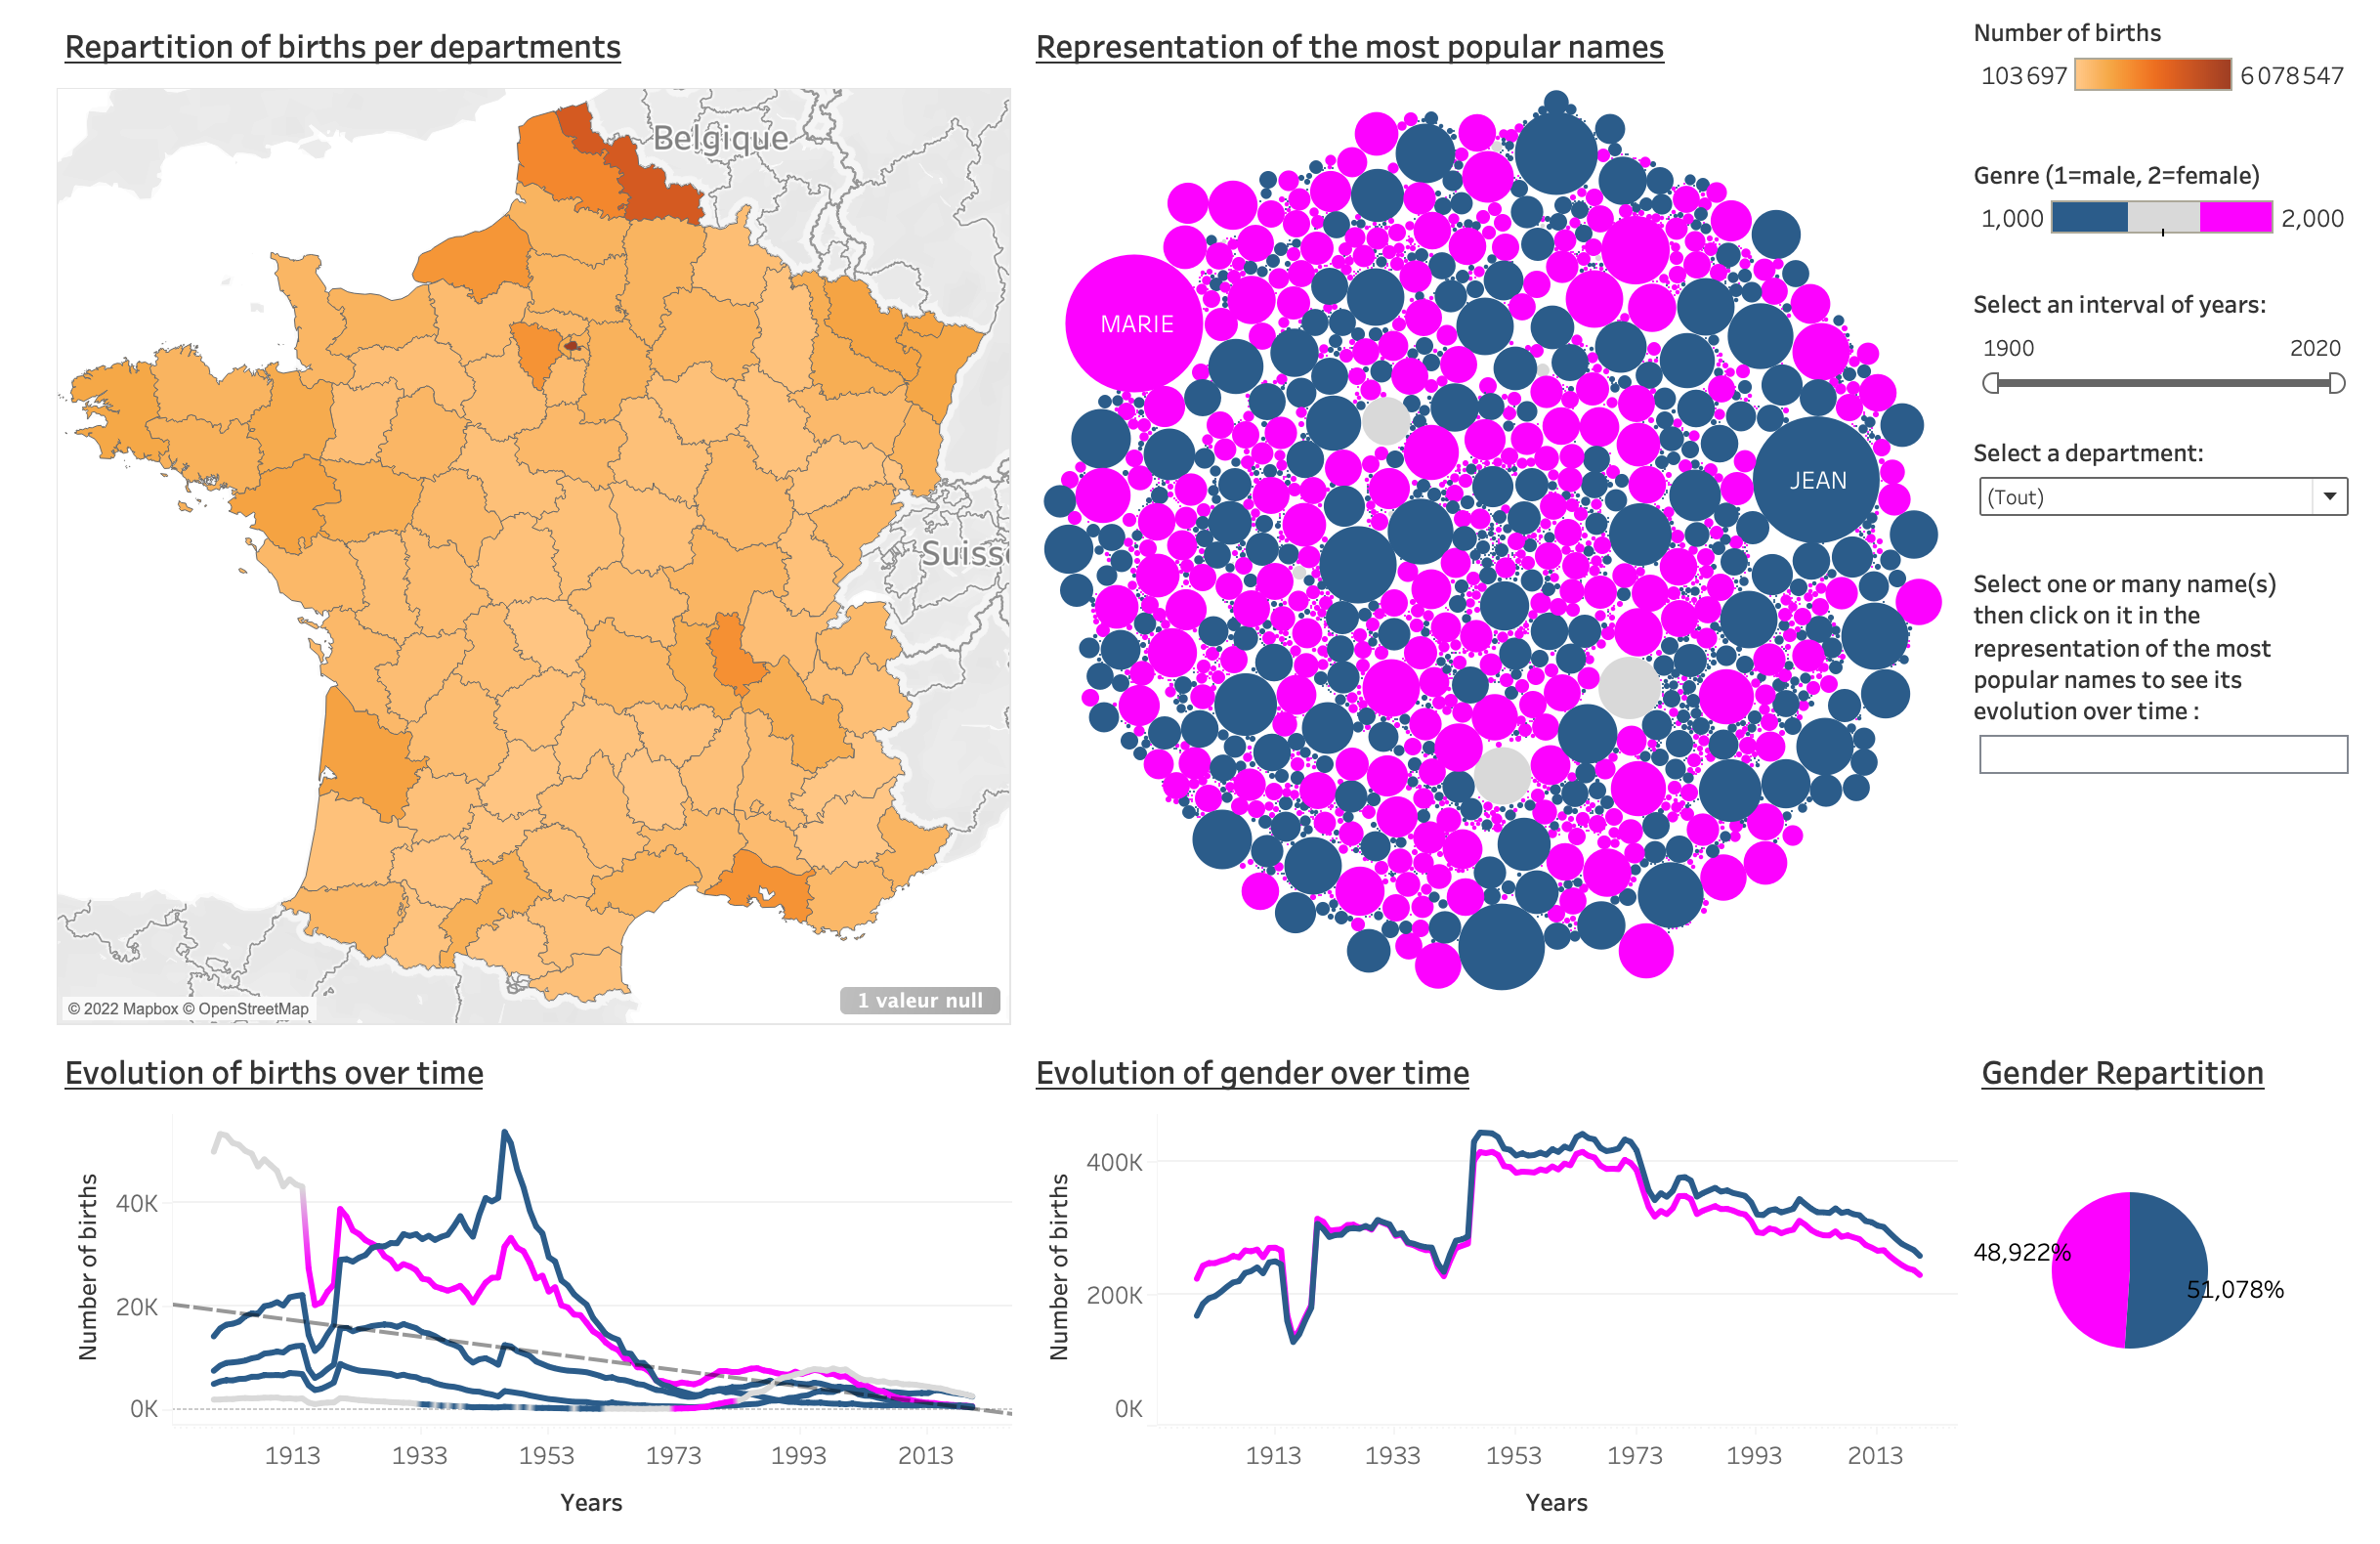

The dashboard page shown, as its layout file describes it:
{"tool":"tableau","page":{"name":"All Questions","canvas":[1000,800],"ordinal":0},"visuals":[{"type":"worksheet","title":"Map France","mark":"Automatic","box":[8,8,379,380]},{"type":"worksheet","title":"Birth number Decades","mark":"Circle","box":[387,8,417,380]},{"type":"legend","title":"Map France","param":"[federated.1gvausr021ll4w0zwiqct1gzo1lz].[sum:nombre:qk]","box":[804,8,188,65]},{"type":"legend","title":"Birth number Decades","param":"[federated.1gvausr021ll4w0zwiqct1gzo1lz].[avg:sexe:qk]","box":[804,73,188,68]},{"type":"filter","title":"Birth/Years","param":"[federated.1gvausr021ll4w0zwiqct1gzo1lz].[tyr:Annais (copie)_97882969392484352:q","box":[804,141,188,69]},{"type":"filter","title":"Map France","param":"[federated.1gvausr021ll4w0zwiqct1gzo1lz].[Action (Preusuel)]","box":[804,210,188,126]},{"type":"filter","title":"Map France","param":"[federated.1gvausr021ll4w0zwiqct1gzo1lz].[none:nom:nk]","box":[804,336,188,52]},{"type":"worksheet","title":"Birth/Years","mark":"Automatic","rows":["nombre"],"cols":["Annais (copie)_97882969392484352"],"box":[8,388,984,229]},{"type":"worksheet","title":"Gender evol","mark":"Automatic","rows":["nombre"],"cols":["Annais (copie)_97882969392484352"],"box":[8,617,787,175]},{"type":"worksheet","title":"Gender Repartition","mark":"Pie","box":[795,617,197,175]}]}

Visuals, with their boxes on the page's 1000x800 design canvas (x1, y1, x2, y2). These are canvas units, not pixel positions in the 2380x1544 screenshot, which may show the page scaled, cropped or inside an application window:
"Map France" worksheet: 8,8,387,388
"Birth number Decades" worksheet (Circle marks): 387,8,804,388
"Map France" legend: 804,8,992,73
"Birth number Decades" legend: 804,73,992,141
"Birth/Years" filter: 804,141,992,210
"Map France" filter: 804,210,992,336
"Map France" filter: 804,336,992,388
"Birth/Years" worksheet: 8,388,992,617
"Gender evol" worksheet: 8,617,795,792
"Gender Repartition" worksheet (Pie marks): 795,617,992,792
